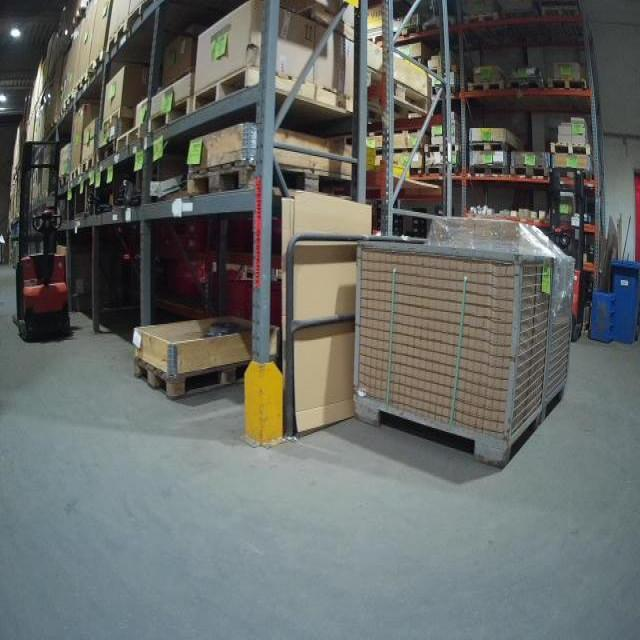pallet: (194, 63, 356, 126), (129, 359, 278, 406), (368, 67, 438, 127), (101, 12, 140, 69), (184, 161, 255, 191), (150, 93, 191, 143), (117, 121, 149, 160), (101, 106, 142, 133), (505, 76, 548, 99), (548, 72, 590, 95), (465, 136, 523, 152), (549, 140, 597, 159), (466, 77, 505, 99), (86, 47, 108, 86), (513, 164, 555, 183), (466, 162, 512, 178), (98, 136, 118, 170), (427, 163, 465, 180), (384, 141, 424, 157), (421, 138, 462, 153), (73, 72, 88, 99), (81, 154, 94, 180), (68, 168, 81, 189), (405, 163, 424, 176)
pallet_truck: (12, 136, 73, 346), (539, 162, 599, 340)
stillage: (345, 231, 581, 480)
